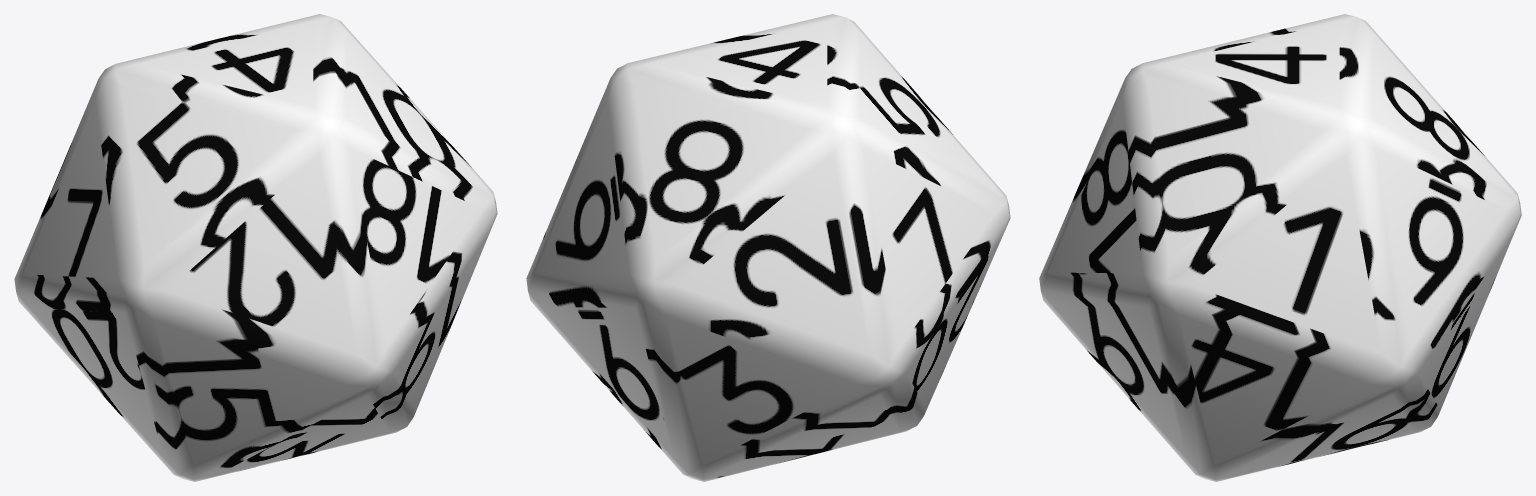
File: Dado20_Col.FBX
3 views of the same model, side by side, from view 1: azimuth 30°, elevation 25°; view 2: azimuth 150°, elevation 25°; view 3: azimuth 270°, elevation 25° (orthographic).
Visible parts, largest first — view 1: Dado20_Col; view 2: Dado20_Col; view 3: Dado20_Col.
Part boxes in pixels (<box>): Dado20_Col: <box>14,14,497,481</box>; Dado20_Col: <box>526,14,1010,481</box>; Dado20_Col: <box>1039,14,1521,481</box>.
Bounding box in the file's own units: 233 × 222 × 264.
